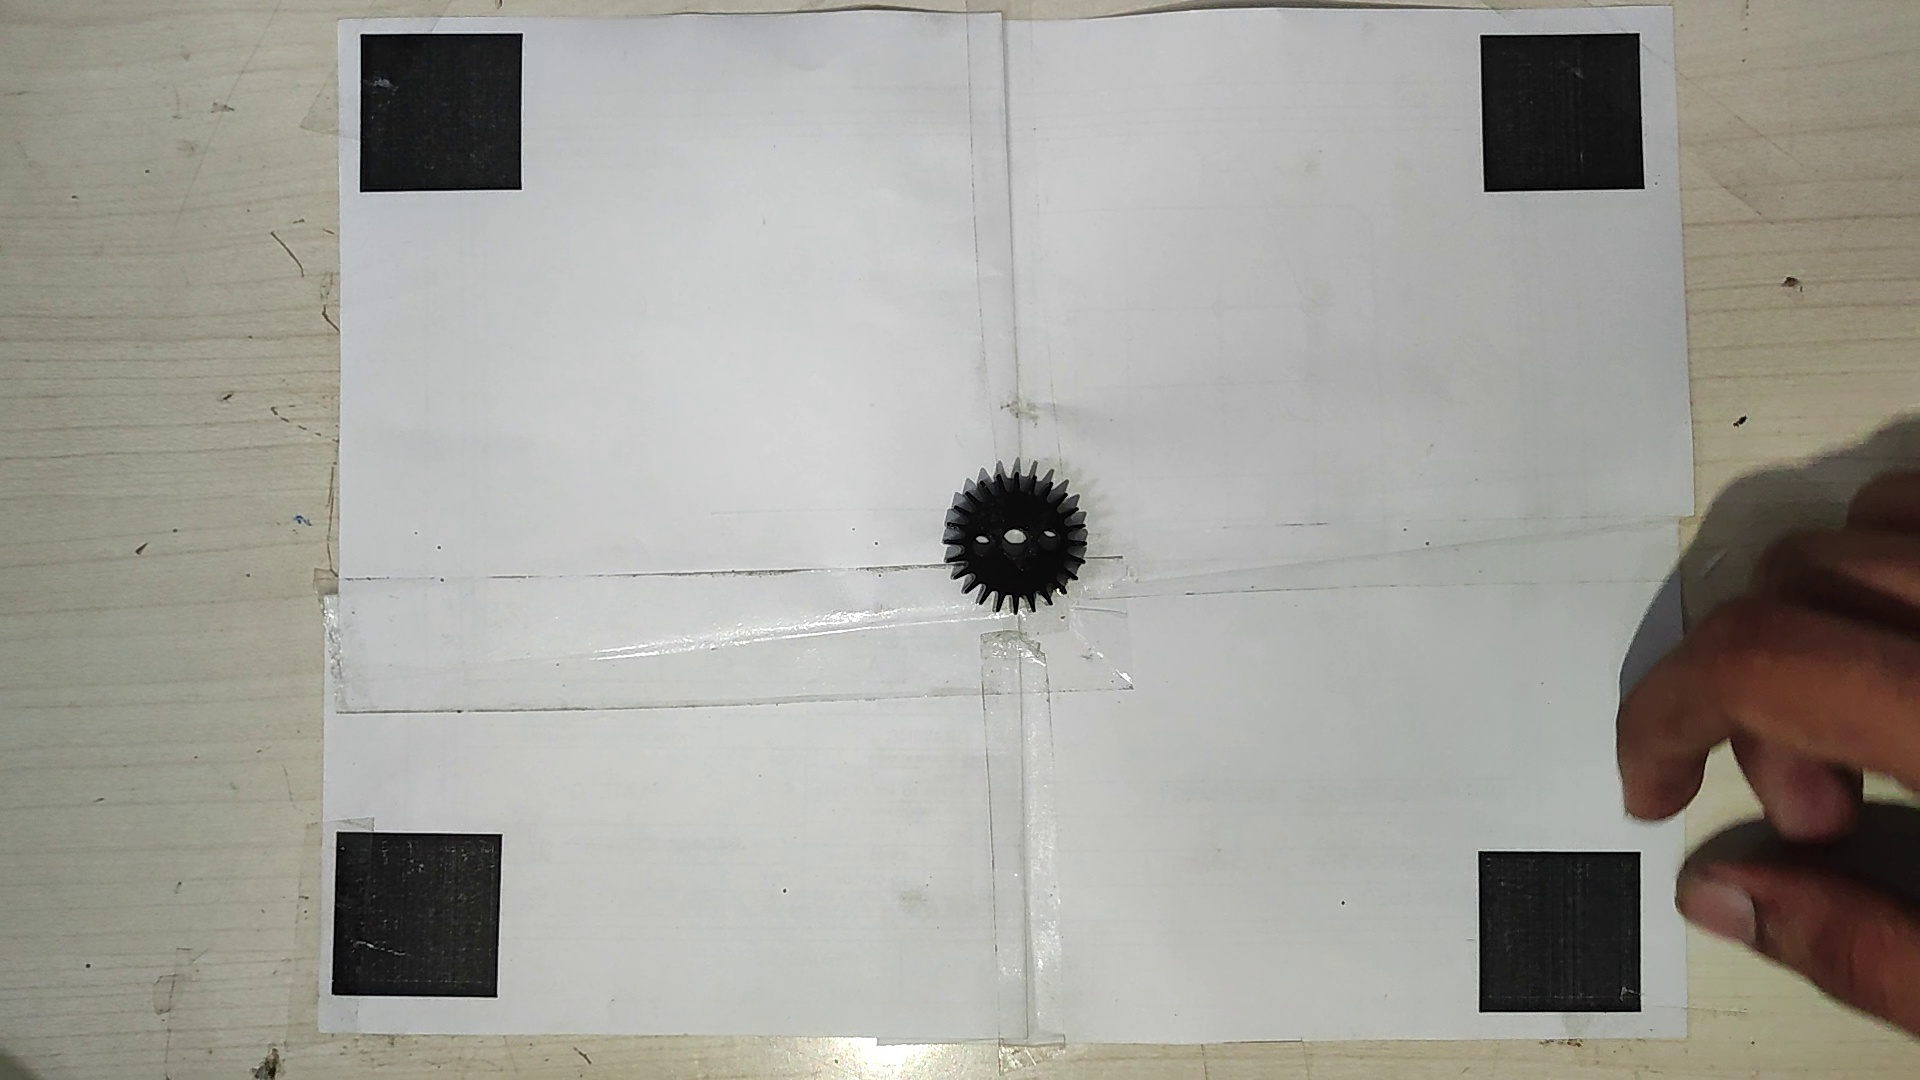Gear: (938, 460, 1091, 616)
